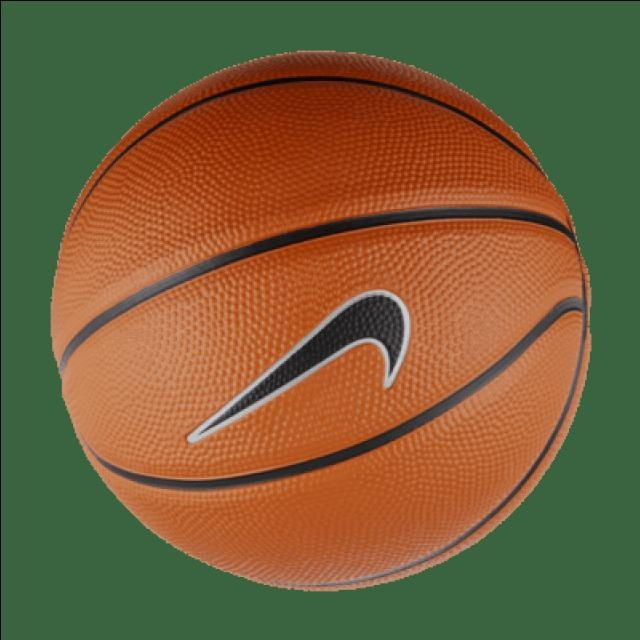agrume: (48, 23, 600, 595)
